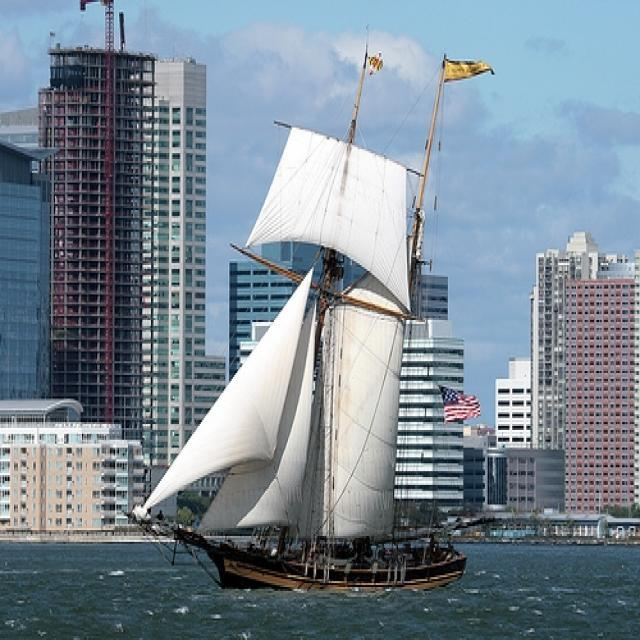Ship: (147, 49, 479, 595)
